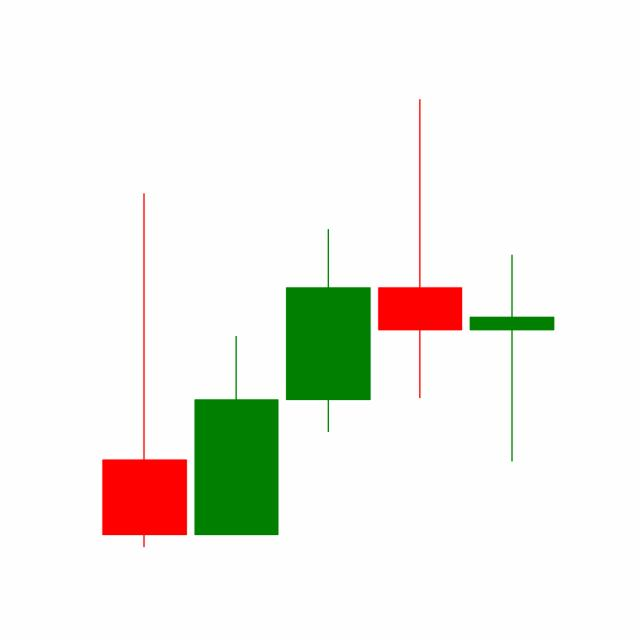Gravestone Doji: (373, 96, 467, 402)
